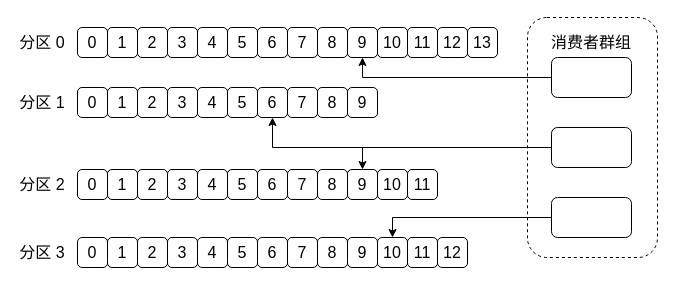
The diagram is 675 pixels wide and 285 high, and some of its shapes have lost their labels. The shapes that lost their labels are listed below. From the top down, each one's box as (x1, y1, x2, y2) in pixels, then its label:
(550, 56, 632, 98): 消费者 1
(550, 126, 632, 168): 消费者 2
(550, 196, 632, 238): 消费者 3
